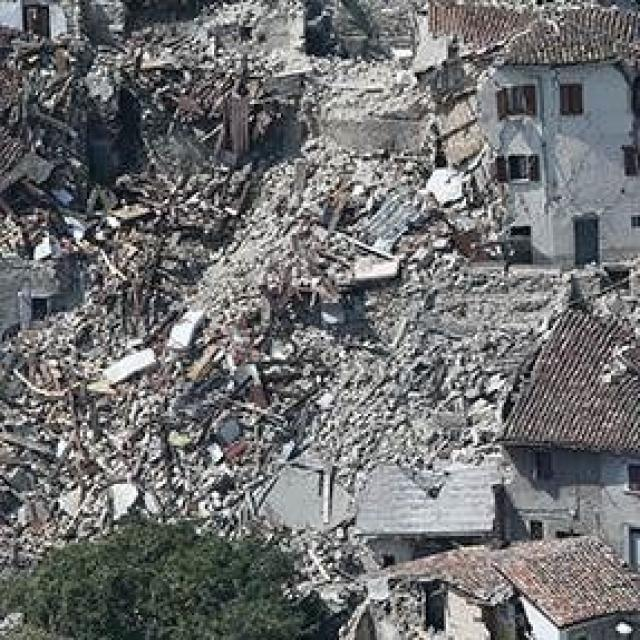collapsed_building: (2, 0, 259, 299), (412, 0, 638, 265), (399, 334, 638, 568)
